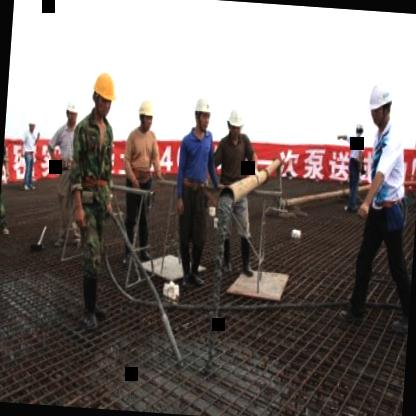helmet: (87, 64, 120, 124), (364, 73, 397, 132), (192, 87, 214, 136), (223, 100, 247, 142), (136, 92, 158, 135), (66, 94, 80, 132), (356, 118, 366, 139)
